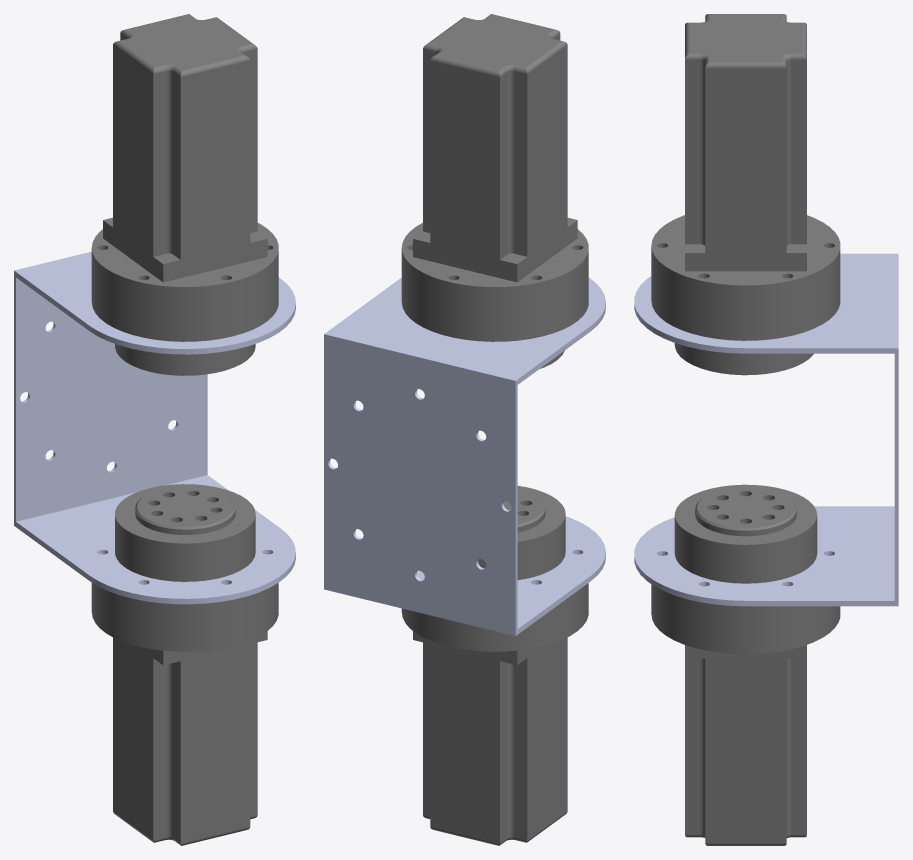
3 views of the same model, side by side, from view 1: azimuth 30°, elevation 25°; view 2: azimuth 150°, elevation 25°; view 3: azimuth 270°, elevation 25° (orthographic).
Parts seen in each view (by area): view 1: motoreductor_simplificado-2, soporte-1, motoreductor_simplificado-1; view 2: soporte-1, motoreductor_simplificado-2, motoreductor_simplificado-1; view 3: motoreductor_simplificado-2, motoreductor_simplificado-1, soporte-1.
Part boxes in pixels (bbox=[...]): motoreductor_simplificado-2: bbox=[91, 14, 278, 375]; soporte-1: bbox=[14, 251, 295, 604]; motoreductor_simplificado-1: bbox=[91, 484, 278, 845]; soporte-1: bbox=[324, 277, 605, 635]; motoreductor_simplificado-2: bbox=[401, 14, 588, 368]; motoreductor_simplificado-1: bbox=[401, 486, 588, 845]; motoreductor_simplificado-2: bbox=[651, 14, 840, 375]; motoreductor_simplificado-1: bbox=[651, 484, 840, 845]; soporte-1: bbox=[634, 253, 898, 606].
Size of the model in its own units: 0.11 by 0.425 by 0.1299.
